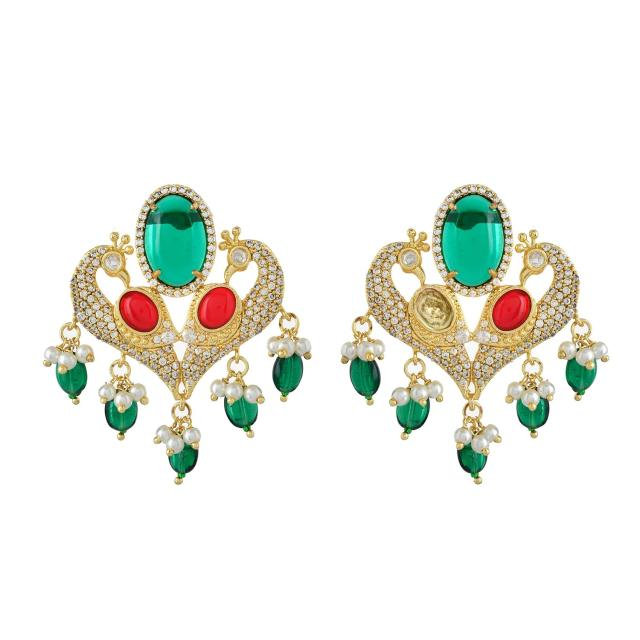missing gem: (413, 289, 453, 330)
